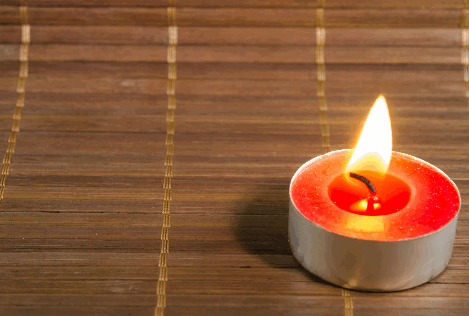Fire: (340, 86, 401, 185)
